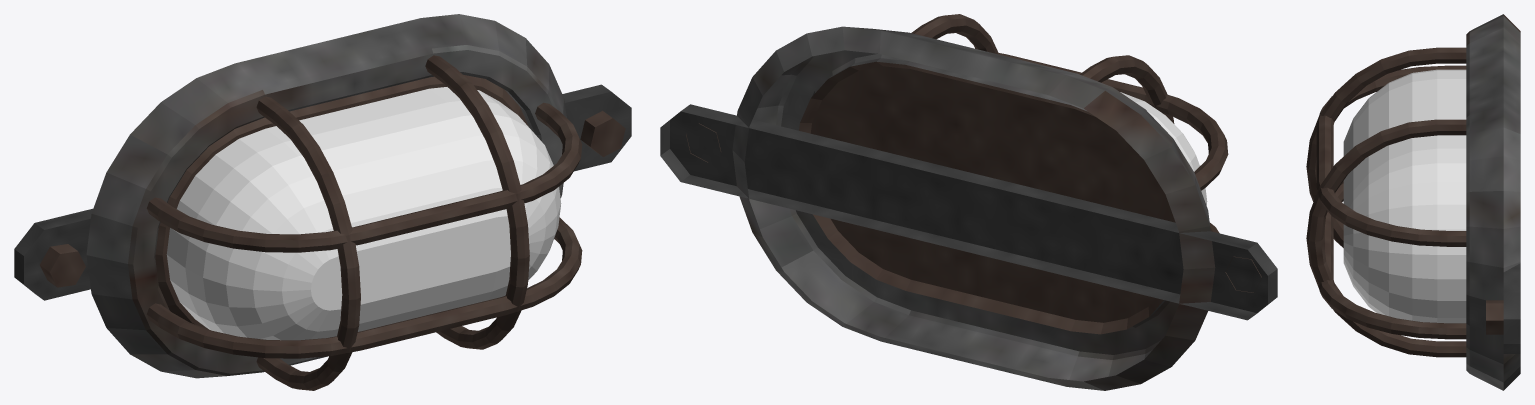
The model's file is lamp_2.fbx.
3 views of the same model, side by side, from view 1: azimuth 30°, elevation 25°; view 2: azimuth 150°, elevation 25°; view 3: azimuth 270°, elevation 25° (orthographic). The views are drawn at different scales.
Parts seen in each view (by area): view 1: lamp_2; view 2: lamp_2; view 3: lamp_2.
Boxes of the visible parts, x1=… form: lamp_2: x1=14, y1=14, x2=631, y2=390; lamp_2: x1=660, y1=14, x2=1277, y2=390; lamp_2: x1=1306, y1=14, x2=1520, y2=390.
Size of the model in its own units: 36 by 17.6 by 12.6.
